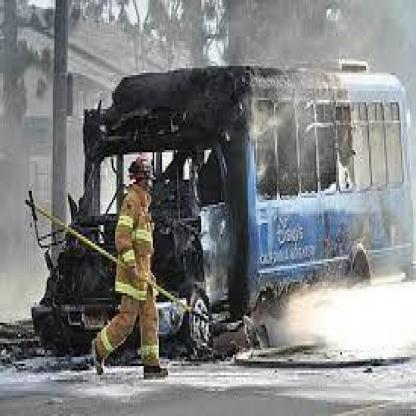other: (290, 271, 404, 352)
